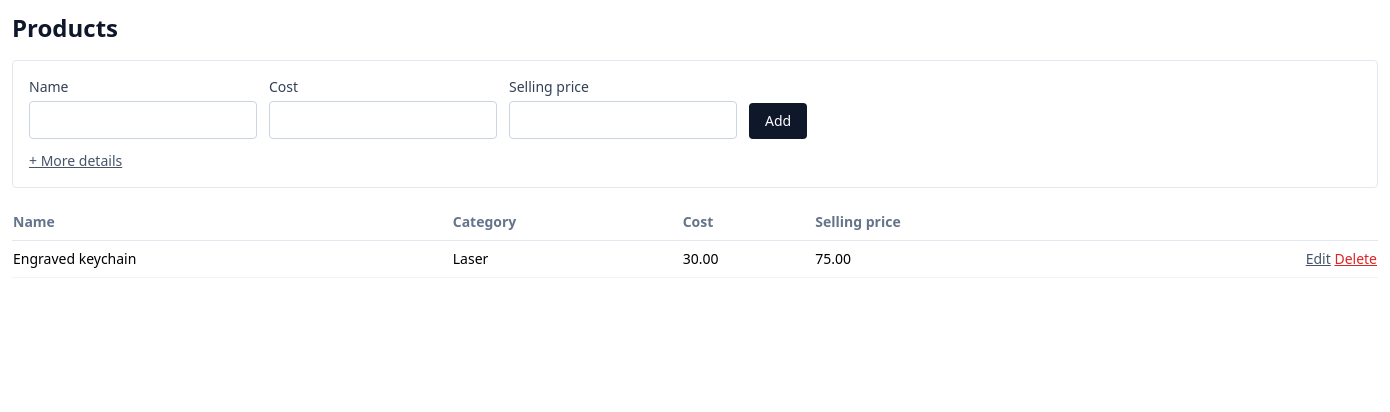
ProductsListPage — edit in place › clicking Edit shows that row pre-filled with its current values
Check: the text "Engraved keychain" is shown, box [12,240,452,278]
Click the button "Edit": (1318, 259) [1306,249,1331,269]
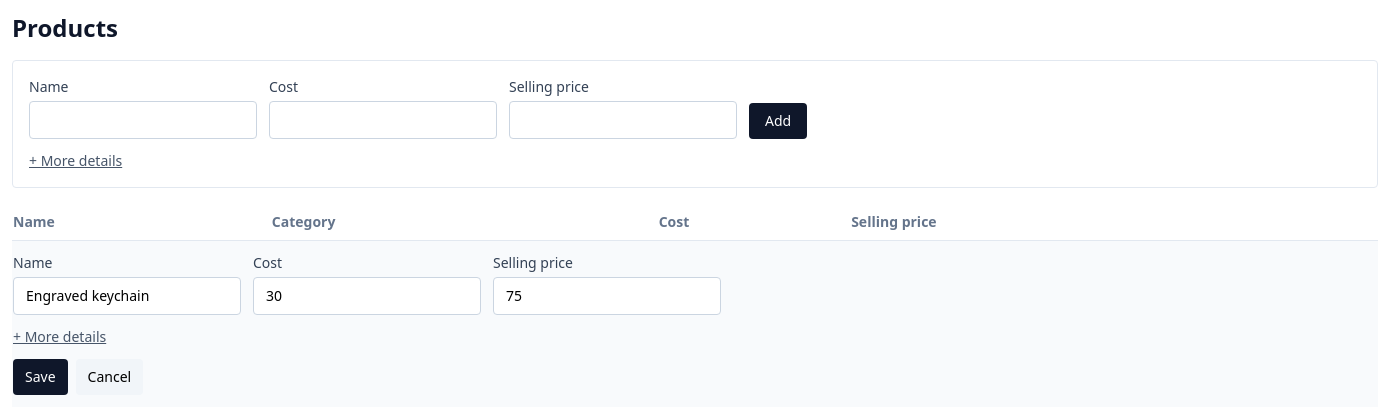
Check: the 2nd field labelled "Name" holds "Engraved keychain", box [13,277,241,315]
Check: the 2nd number field labelled "Cost" holds "30", box [253,277,481,315]
